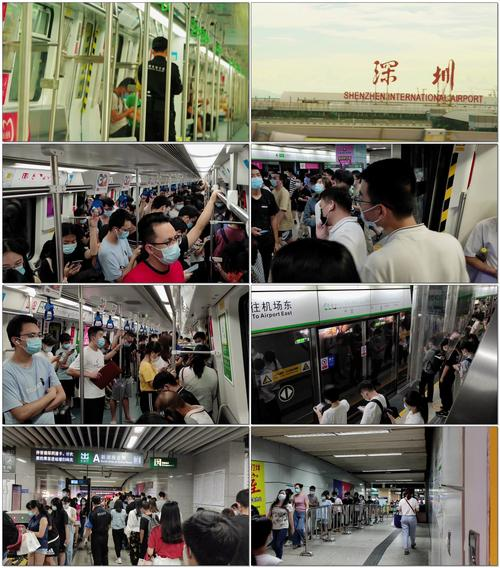mask: (146, 217, 183, 264), (20, 314, 47, 355)
